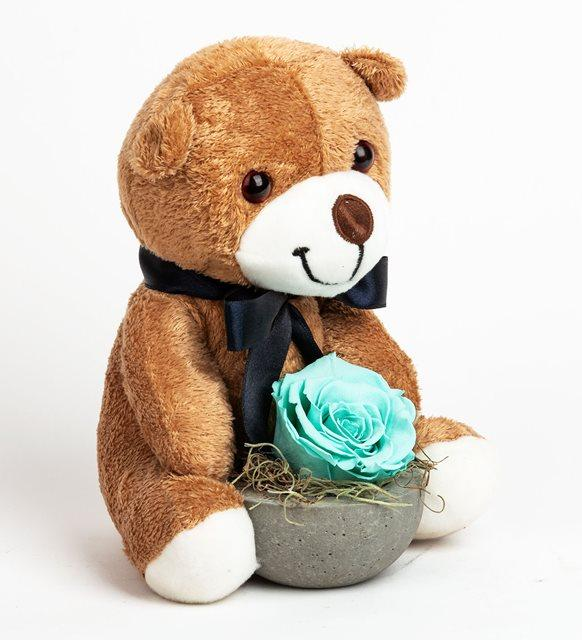Rose: (275, 350, 423, 486)
